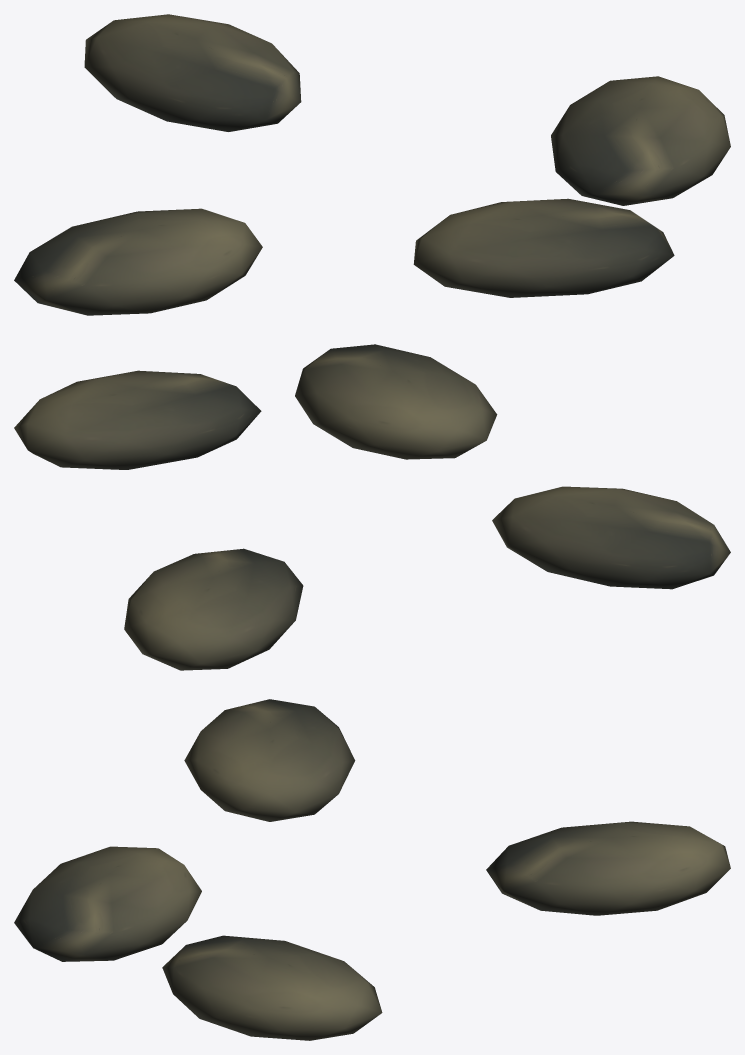
The model's file is NP_G02_SeedBlack.fbx.
3 renders of one model, top to bottom at view 1: azimuth 30°, elevation 25°; view 2: azimuth 150°, elevation 25°; view 3: azimuth 270°, elevation 25°, orthographic. The views are drawn at different scales.
Parts seen in each view (by area): view 1: NP_G02_SeedBlack; view 2: NP_G02_SeedBlack; view 3: NP_G02_SeedBlack.
Boxes of the visible parts, bbox=[...] form: NP_G02_SeedBlack: bbox=[14, 14, 730, 315]; NP_G02_SeedBlack: bbox=[14, 344, 730, 670]; NP_G02_SeedBlack: bbox=[14, 699, 730, 1040].
Bounding box in the file's own units: 13.36 × 1.2 × 12.59.
